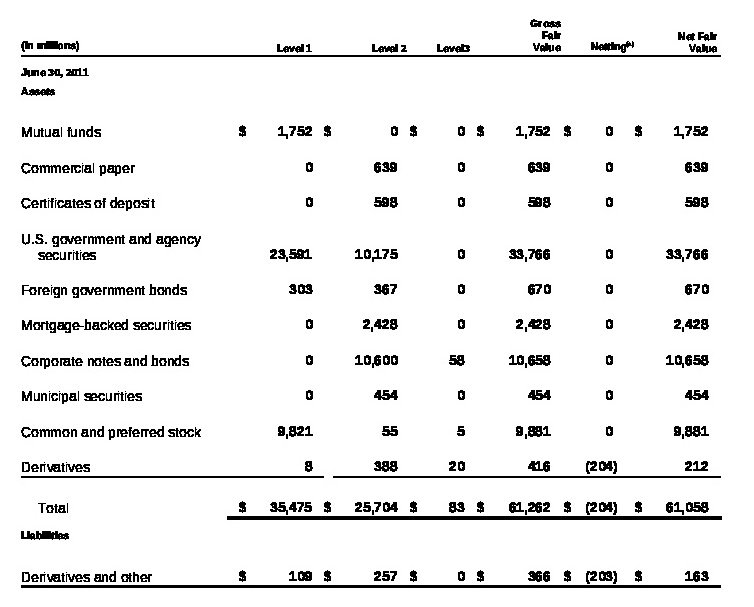table: (0, 0, 754, 607)
